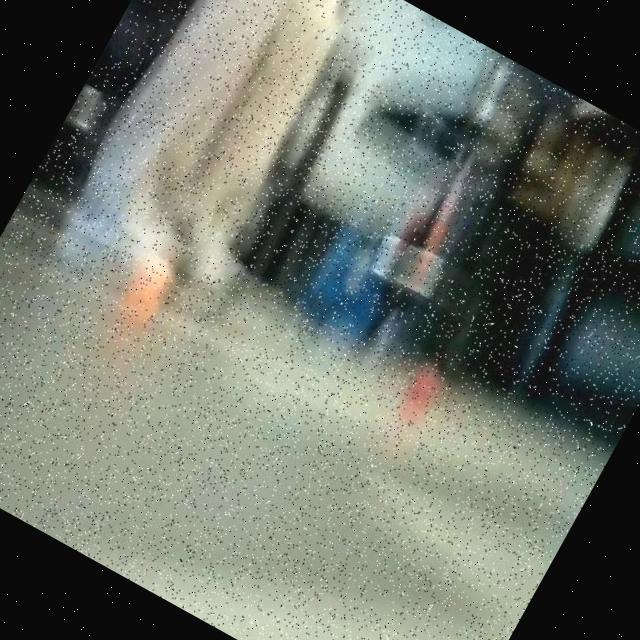ping-pong-ball: (111, 249, 184, 327), (384, 354, 457, 432)
